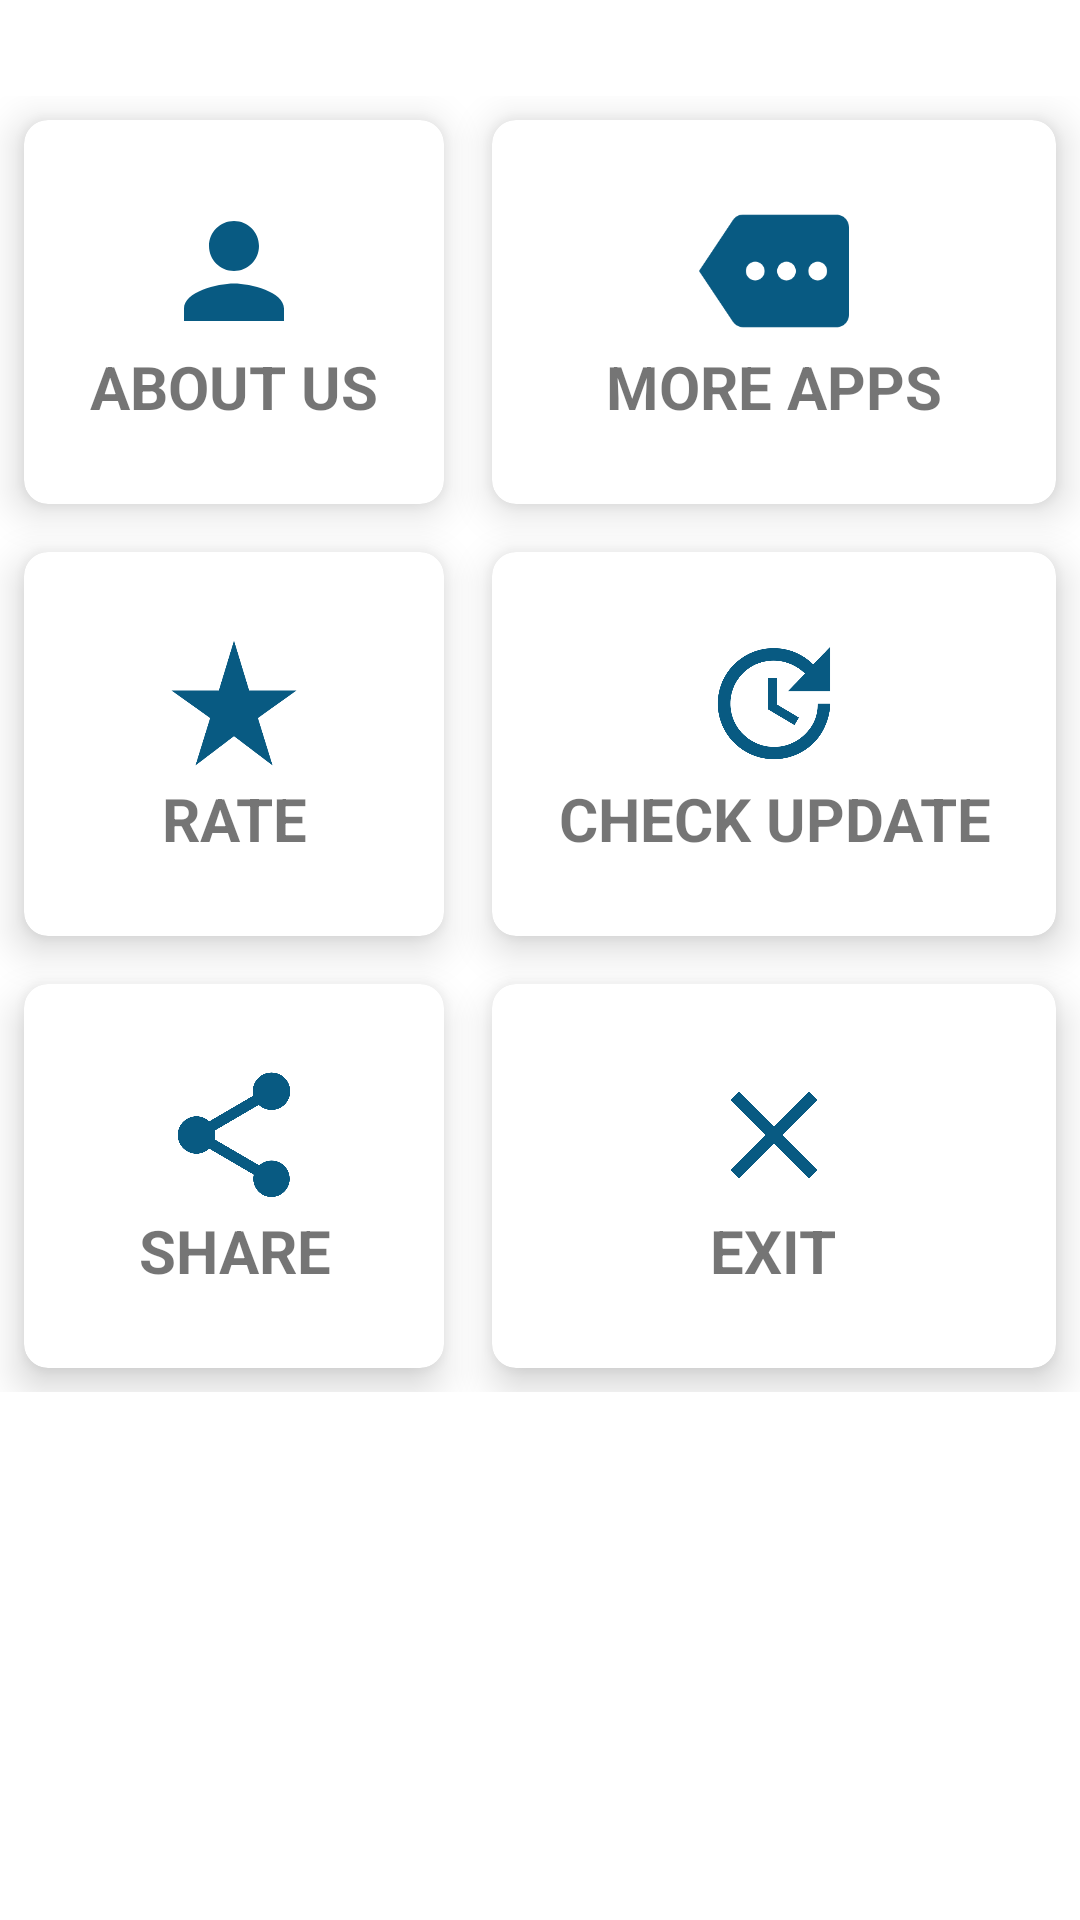

Icons on this 1080 × 1920 Android screen, each with its box as (x1, y1, x2, y2):
close: (731, 1092, 817, 1178)
person: (184, 221, 284, 321)
